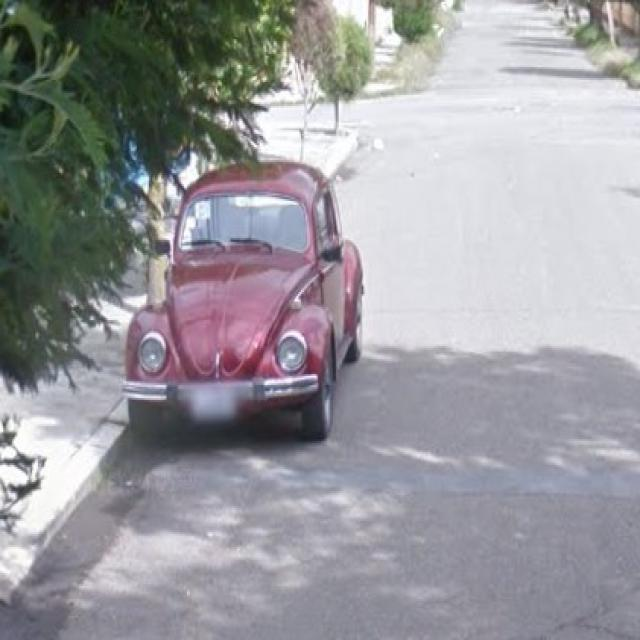car: (122, 160, 366, 442)
